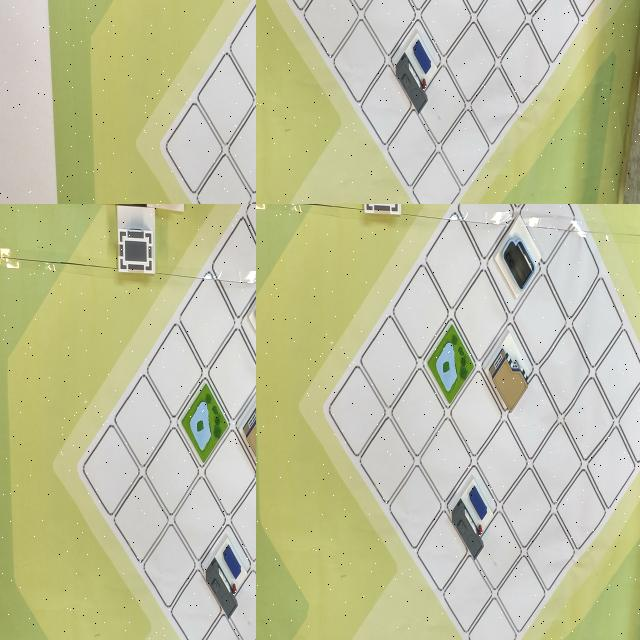bus_stop: (164, 462, 225, 565), (444, 464, 505, 564), (268, 0, 336, 48)
factory: (256, 0, 323, 64), (206, 0, 256, 51), (356, 204, 395, 246)
fish_pool: (54, 231, 104, 315), (256, 0, 294, 57), (310, 204, 356, 247)
forest: (200, 139, 256, 204), (462, 0, 531, 39), (590, 204, 638, 249), (213, 204, 256, 242)
gogo_shop: (490, 204, 544, 309), (203, 36, 256, 137), (162, 360, 216, 453), (327, 0, 398, 51)
research_build: (456, 0, 527, 57), (0, 204, 44, 275), (359, 204, 404, 240)
restaurant: (479, 316, 542, 419), (289, 0, 352, 52), (30, 204, 73, 243)
silicate_rock: (359, 0, 421, 46), (120, 204, 162, 240)
volunteer_center: (117, 133, 183, 204), (391, 0, 457, 64), (394, 204, 439, 247), (71, 204, 112, 243)
wet_land: (128, 44, 193, 140), (427, 306, 477, 414), (372, 0, 444, 62)
